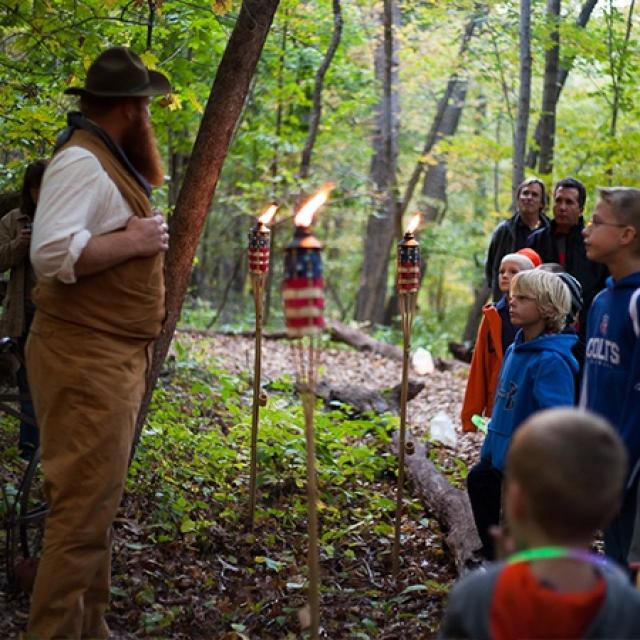body: (15, 41, 176, 638), (435, 400, 639, 639), (476, 267, 580, 560), (459, 243, 546, 560), (578, 183, 638, 467), (0, 155, 51, 467), (524, 176, 610, 348), (484, 176, 553, 309), (550, 270, 584, 328)
